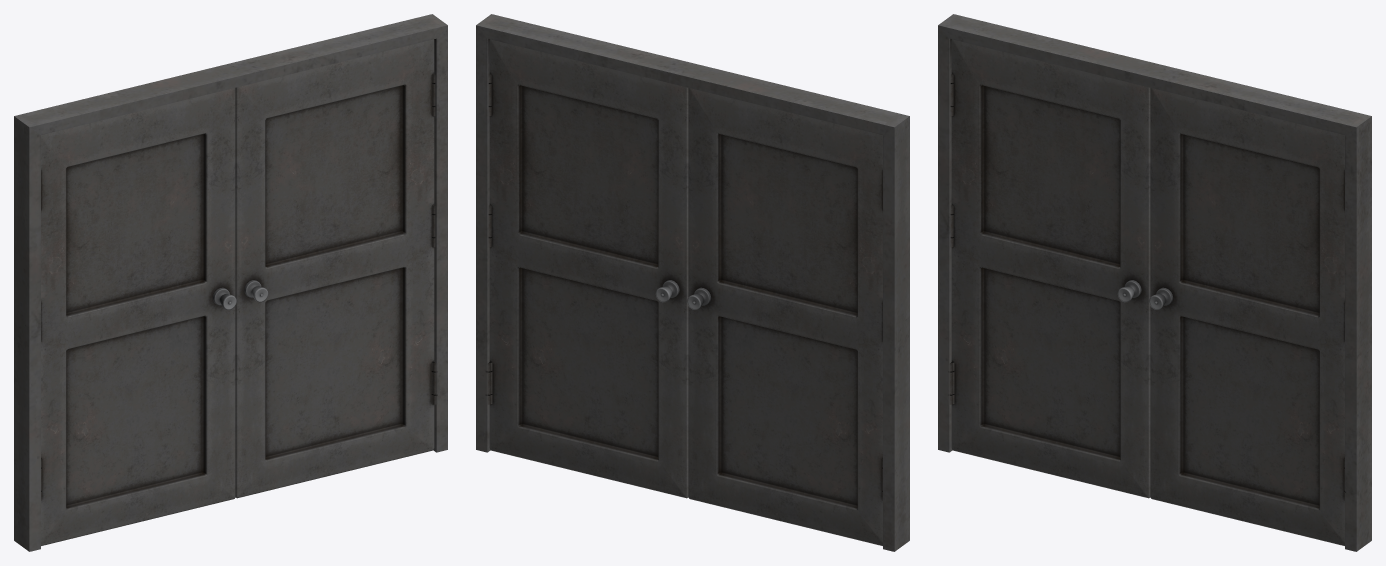
Rendered from Steel_Door_2_B.glb.
3 renders of one model, left to right at view 1: azimuth 30°, elevation 25°; view 2: azimuth 150°, elevation 25°; view 3: azimuth 330°, elevation 25°, orthographic.
Visible parts, largest first — view 1: Door_Base_1, Door_Base_2, Door_Frame; view 2: Door_Base_1, Door_Base_2, Door_Frame; view 3: Door_Base_2, Door_Base_1, Door_Frame.
Part boxes in pixels (box(x1,y1,x2,y2)): Door_Base_1: box(235, 39, 437, 498); Door_Base_2: box(41, 88, 235, 545); Door_Frame: box(14, 14, 447, 551); Door_Base_1: box(486, 39, 688, 498); Door_Base_2: box(688, 88, 882, 545); Door_Frame: box(476, 14, 909, 551); Door_Base_2: box(948, 39, 1150, 498); Door_Base_1: box(1150, 88, 1344, 545); Door_Frame: box(938, 14, 1371, 551).
Size of the model in its own units: 2.12 by 2.05 by 0.2657.
Materials: 1 (1 with a texture image).
